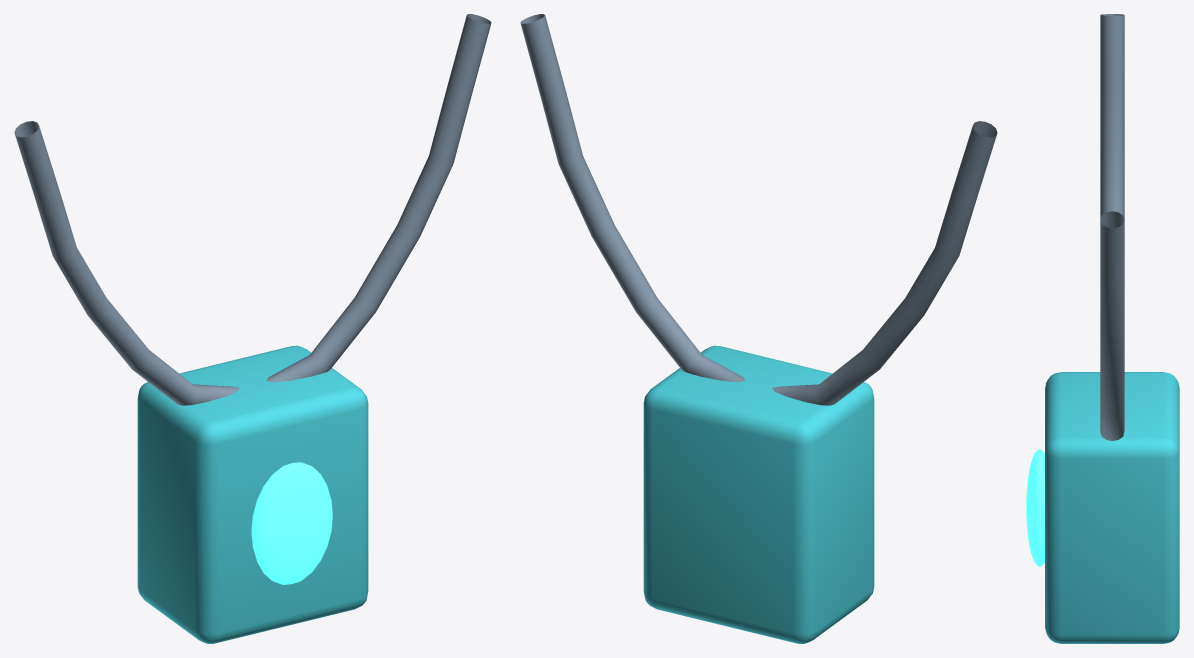
File: necklace_v7.glb
3 views of the same model, side by side, from view 1: azimuth 30°, elevation 25°; view 2: azimuth 150°, elevation 25°; view 3: azimuth 270°, elevation 25° (orthographic). The views are drawn at different scales.
Parts seen in each view (by area): view 1: PENDANT_LANTERN_ACCENT, LANTERN_CHAIN_PRIMARY, PENDANT_FLAME_EMISSIVE; view 2: PENDANT_LANTERN_ACCENT, LANTERN_CHAIN_PRIMARY; view 3: PENDANT_LANTERN_ACCENT, LANTERN_CHAIN_PRIMARY, PENDANT_FLAME_EMISSIVE.
Boxes of the visible parts, x1,y1,x2,y2 form: PENDANT_LANTERN_ACCENT: (137,345,368,643); LANTERN_CHAIN_PRIMARY: (14,14,491,405); PENDANT_FLAME_EMISSIVE: (251,462,332,584); PENDANT_LANTERN_ACCENT: (643,345,874,643); LANTERN_CHAIN_PRIMARY: (520,14,997,405); PENDANT_LANTERN_ACCENT: (1045,372,1179,643); LANTERN_CHAIN_PRIMARY: (1100,14,1124,440); PENDANT_FLAME_EMISSIVE: (1026,449,1044,566).
Size of the model in its own units: 1.88 by 2.04 by 0.57.
